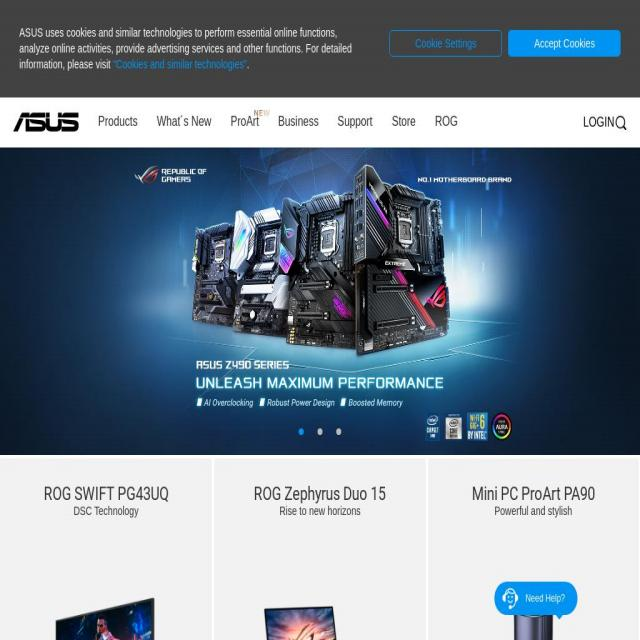content: (0, 145, 640, 457)
login-option: (580, 112, 625, 132)
navigation-blocks: (0, 461, 640, 640)
navigation-links: (94, 112, 461, 132)
